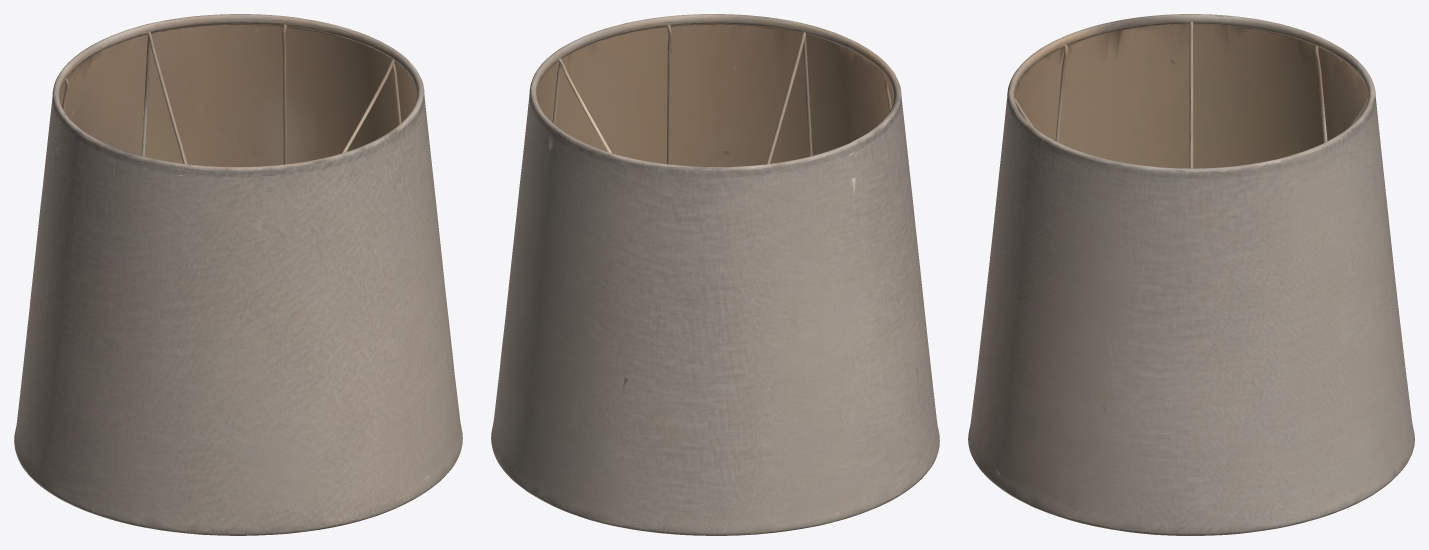
File: alt_pend_linen.glb
3 views of the same model, side by side, from view 1: azimuth 30°, elevation 25°; view 2: azimuth 150°, elevation 25°; view 3: azimuth 270°, elevation 25° (orthographic).
Parts seen in each view (by area): view 1: node_0; view 2: node_0; view 3: node_0.
Boxes of the visible parts, x1,y1,x2,y2 form: node_0: [14, 14, 462, 535]; node_0: [491, 14, 939, 535]; node_0: [968, 14, 1414, 535].
Size of the model in its own units: 0.9139 by 0.7912 by 0.9107.
1 material, 1 textured.
